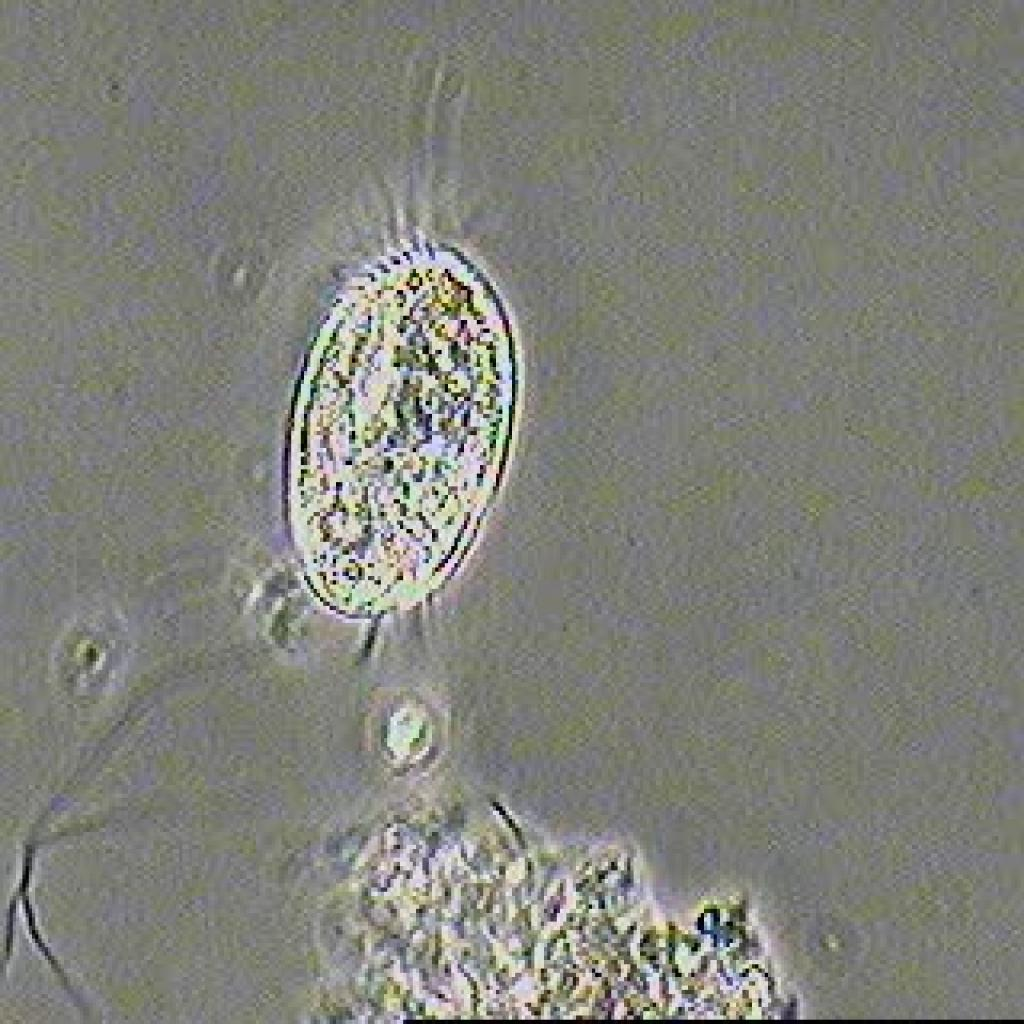Chilodonella: (232, 56, 568, 682)
